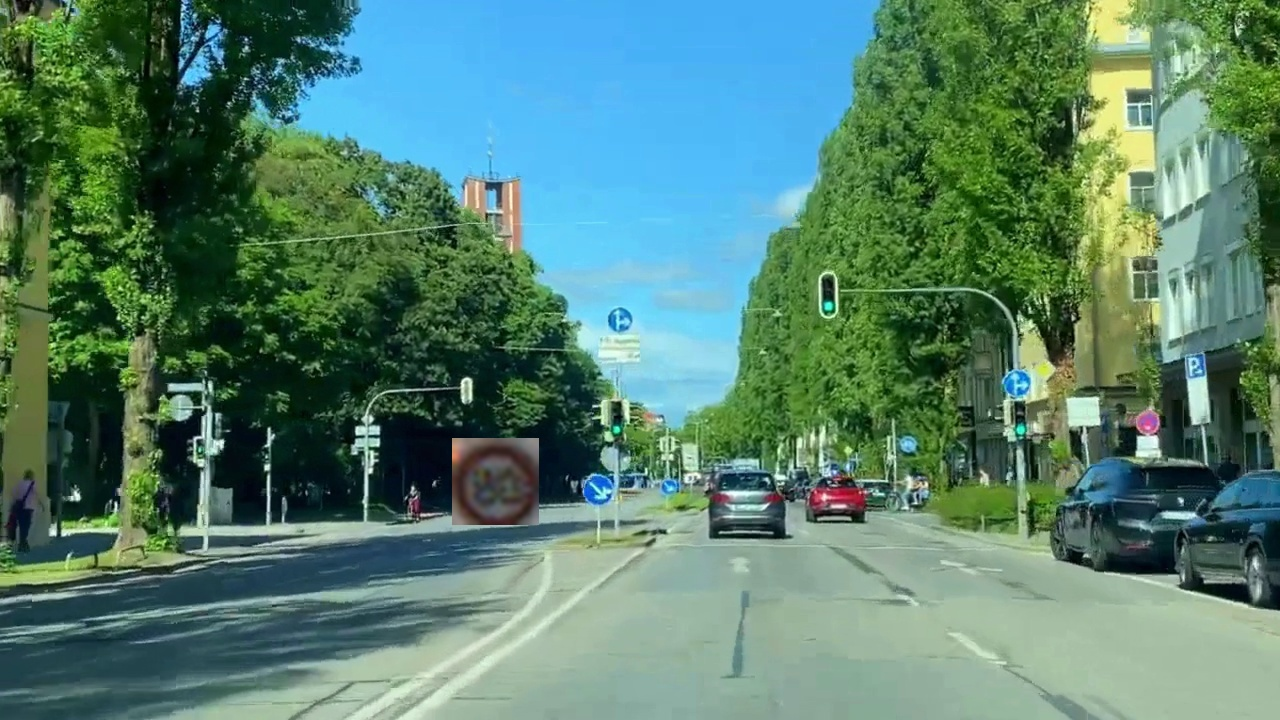Speed 80: (452, 438, 539, 525)
